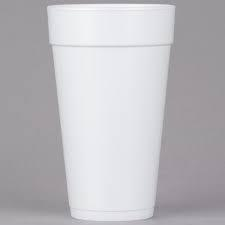Plastic cup: (41, 3, 183, 225)
